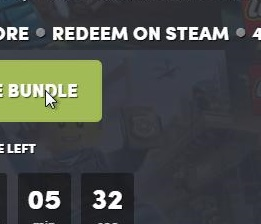cursor: (44, 89, 57, 110)
